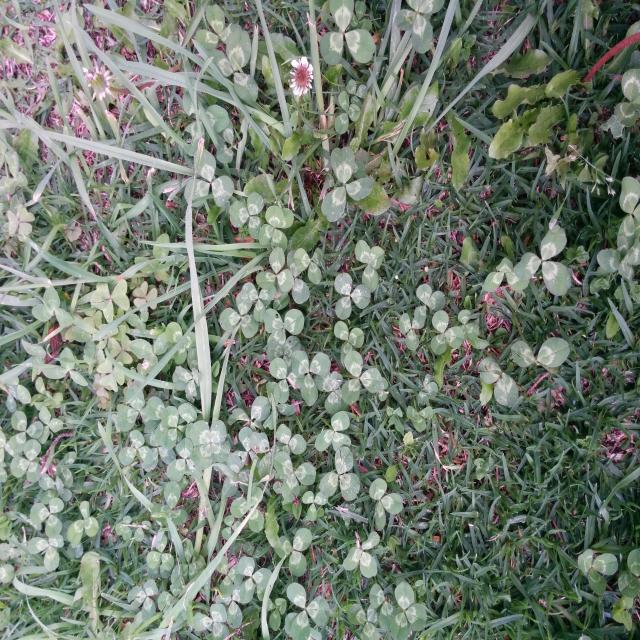Four Leaf Clover: (190, 420, 230, 470), (259, 206, 294, 253)
